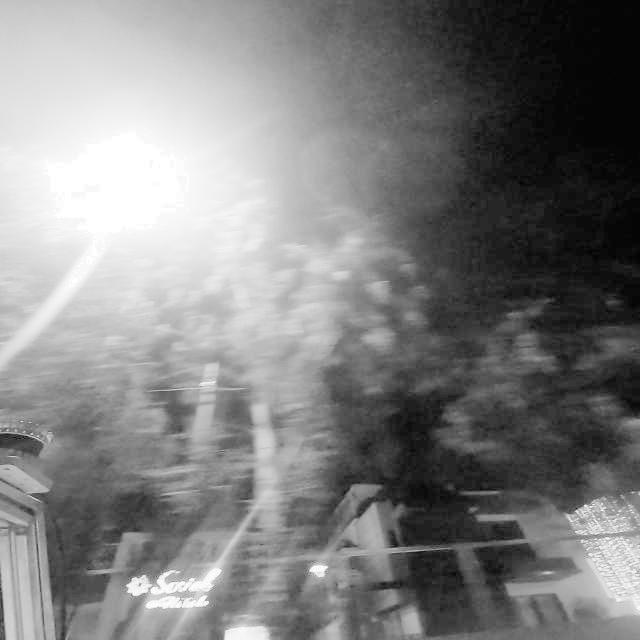Light: (50, 134, 190, 245)
